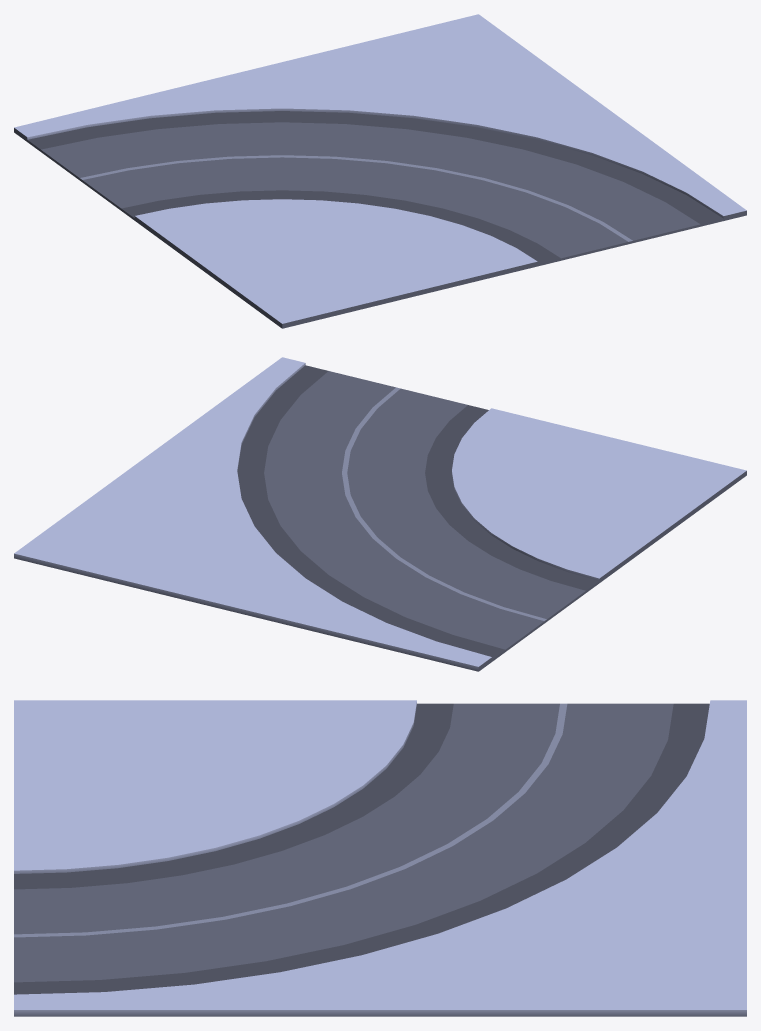
The model's file is road-curve-pavement.glb.
3 views of the same model, one above another, from view 1: azimuth 30°, elevation 25°; view 2: azimuth 150°, elevation 25°; view 3: azimuth 270°, elevation 25° (orthographic). The views are drawn at different scales.
Parts seen in each view (by area): view 1: road-curve-pavement; view 2: road-curve-pavement; view 3: road-curve-pavement.
Part boxes in pixels (<box>): road-curve-pavement: <box>14,14,746,328</box>; road-curve-pavement: <box>14,357,746,671</box>; road-curve-pavement: <box>14,700,746,1016</box>.
Size of the model in its own units: 2 by 0.02 by 2.
Materials: 1 (1 with a texture image).
